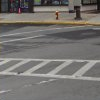crosswalk: (0, 57, 100, 80)
